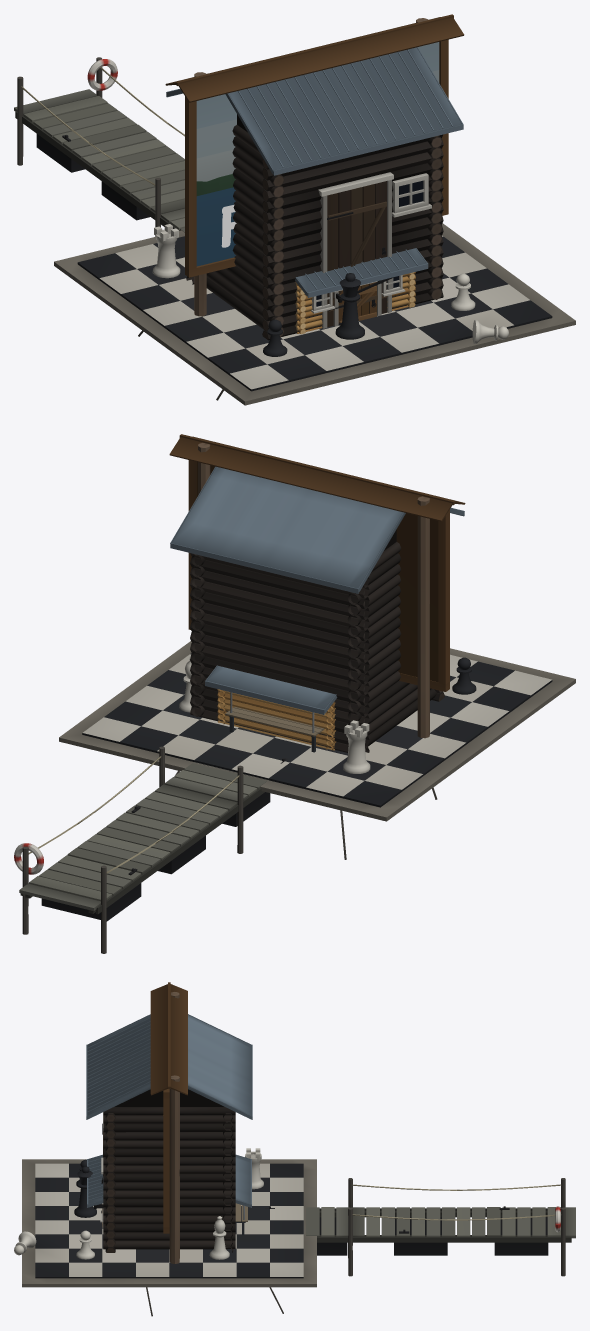
File: flarken.glb
3 renders of one model, top to bottom at view 1: azimuth 30°, elevation 25°; view 2: azimuth 150°, elevation 25°; view 3: azimuth 270°, elevation 25°, orthographic. The views are drawn at different scales.
Parts seen in each view (by area): view 1: hydda-tjarad, schack, solskylt, bryggarm, hydda, hydda-skjutdorr; view 2: hydda-tjarad, schack, bryggarm, solskylt, hydda, hopptorn; view 3: hydda-tjarad, schack, bryggarm, solskylt, hydda.
Part boxes in pixels (<box>): hydda-tjarad: <box>166,47,463,340</box>; schack: <box>54,223,575,405</box>; solskylt: <box>165,14,464,316</box>; bryggarm: <box>14,57,184,236</box>; hydda: <box>295,248,428,334</box>; hydda-skjutdorr: <box>296,272,415,314</box>; hydda-tjarad: <box>170,466,464,752</box>; schack: <box>59,641,575,821</box>; bryggarm: <box>14,746,287,953</box>; solskylt: <box>169,434,465,738</box>; hydda: <box>205,665,337,750</box>; hopptorn: <box>175,692,437,859</box>; hydda-tjarad: <box>86,1014,252,1252</box>; schack: <box>14,1148,316,1287</box>; bryggarm: <box>265,1178,575,1276</box>; solskylt: <box>150,982,187,1263</box>; hydda: <box>87,1154,251,1228</box>.
Size of the model in its own units: 17.6 by 16.11 by 33.53.
